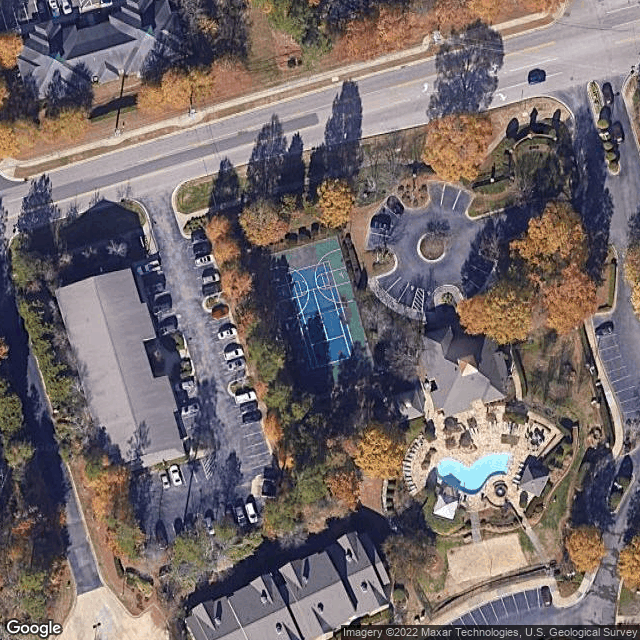Court: (287, 260, 357, 369)
